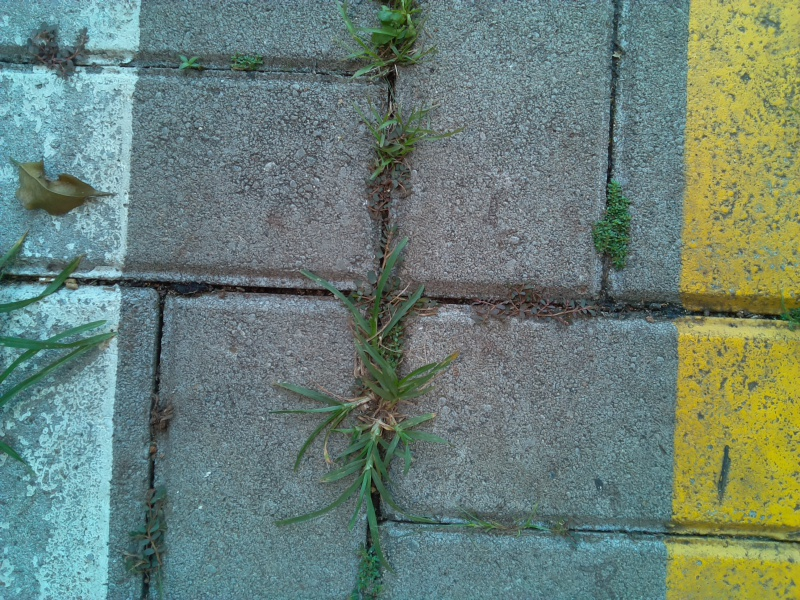Weed: (326, 244, 436, 406), (327, 418, 423, 533), (268, 371, 369, 452), (114, 480, 186, 593), (347, 101, 445, 179), (11, 14, 103, 90), (584, 173, 649, 277), (459, 509, 527, 548), (538, 504, 588, 557), (226, 42, 274, 85), (769, 286, 800, 341), (170, 49, 207, 80)
